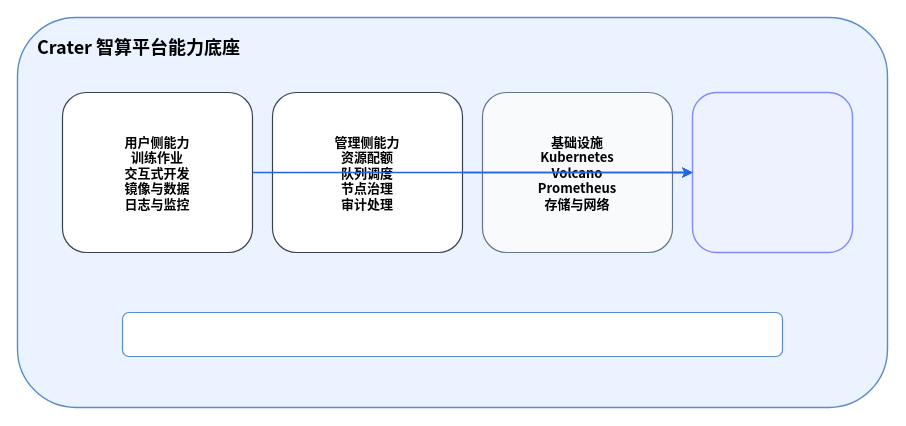
This 906x426 diagram has some shape labels left out. The box of each missing label's shape, as (x1, y1, x2, y2) in pixels:
Mops 复用 Crater 已有作业、调度、监控和治理能力，在其上增加可审计的智能运维入口。: (121, 311, 783, 357)
Mops 接入点 自然语言会话 工具代理 操作确认 质量评估: (691, 91, 853, 253)
